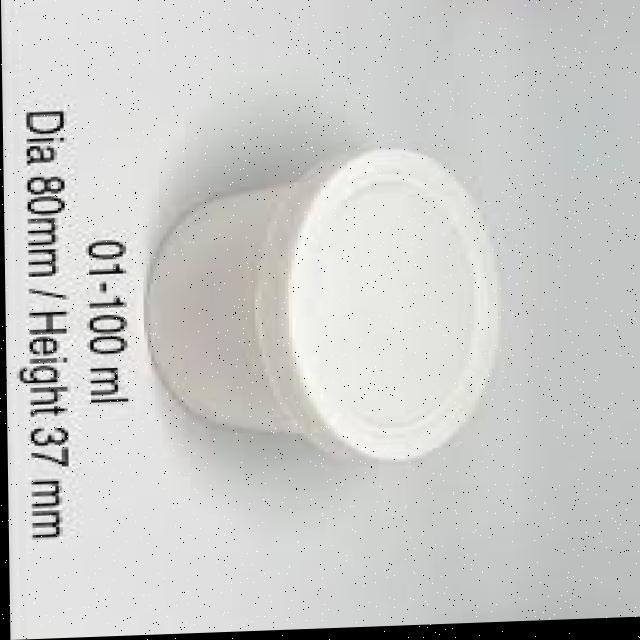disposable: (119, 124, 515, 508)
